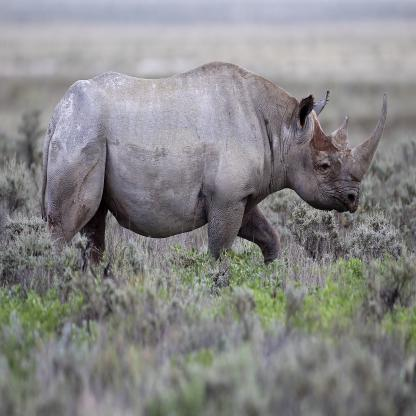Diceros bicornis: (40, 60, 388, 286)
